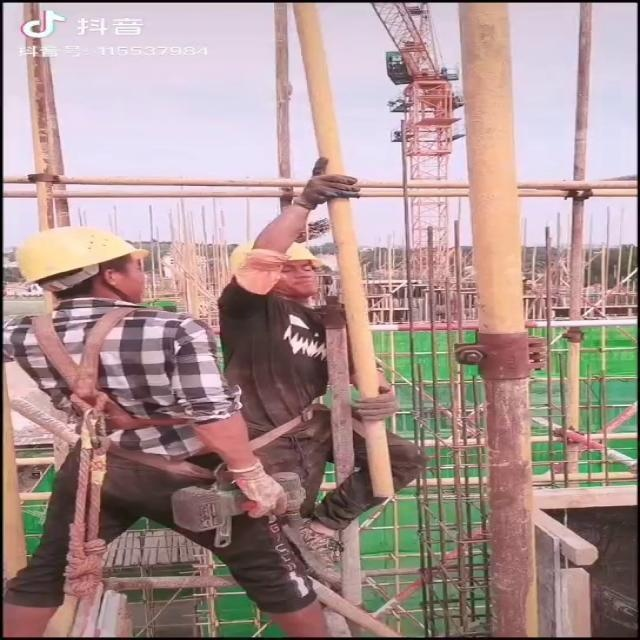Arnes_seguridad: (3, 298, 230, 499)
